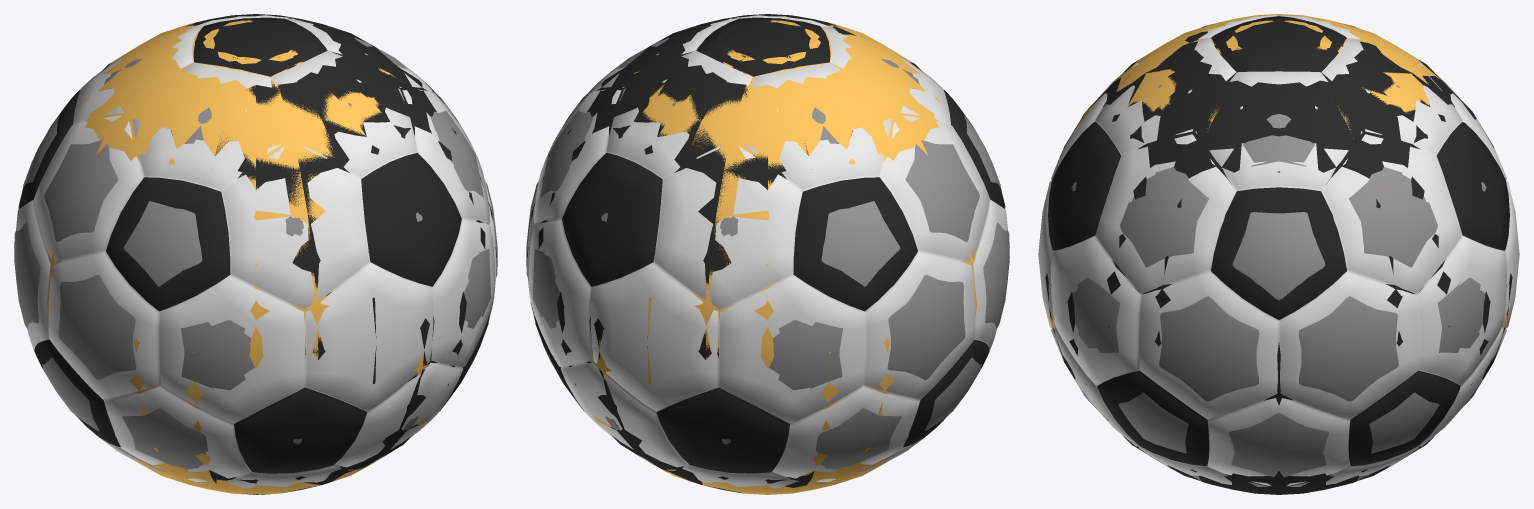
File: fuzeball_ball.glb
3 views of the same model, side by side, from view 1: azimuth 30°, elevation 25°; view 2: azimuth 150°, elevation 25°; view 3: azimuth 270°, elevation 25° (orthographic).
Parts seen in each view (by area): view 1: classic, split, golden, cannon; view 2: classic, split, golden, cannon; view 3: classic, split, cannon, golden.
Boxes of the visible parts, left/top/right/bottom form: classic: left=16, top=15, right=496, bottom=492; split: left=14, top=38, right=497, bottom=491; golden: left=47, top=20, right=430, bottom=494; cannon: left=101, top=14, right=496, bottom=494; classic: left=527, top=15, right=1007, bottom=492; split: left=526, top=38, right=1009, bottom=491; golden: left=590, top=20, right=976, bottom=494; cannon: left=527, top=14, right=922, bottom=493; classic: left=1038, top=15, right=1519, bottom=486; split: left=1071, top=24, right=1486, bottom=483; cannon: left=1039, top=31, right=1512, bottom=494; golden: left=1049, top=14, right=1518, bottom=463.
Size of the model in its own units: 3.8 by 3.8 by 3.8.
